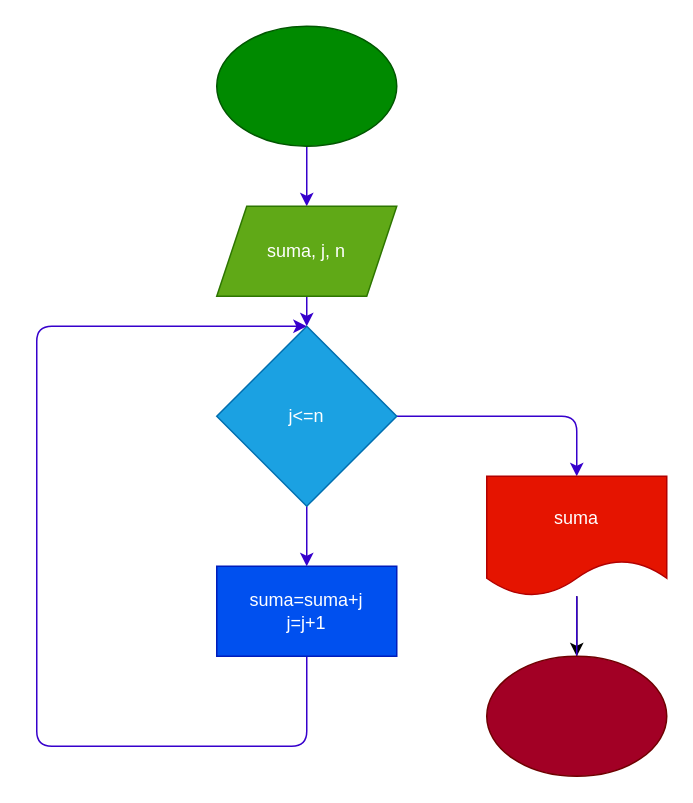
Image size: 693x803. Some labels were removed from this diagram. Each missing label, with the centre of its shape:
"inicio" goes at pixel 306 85.
"resta" goes at pixel 576 715.
